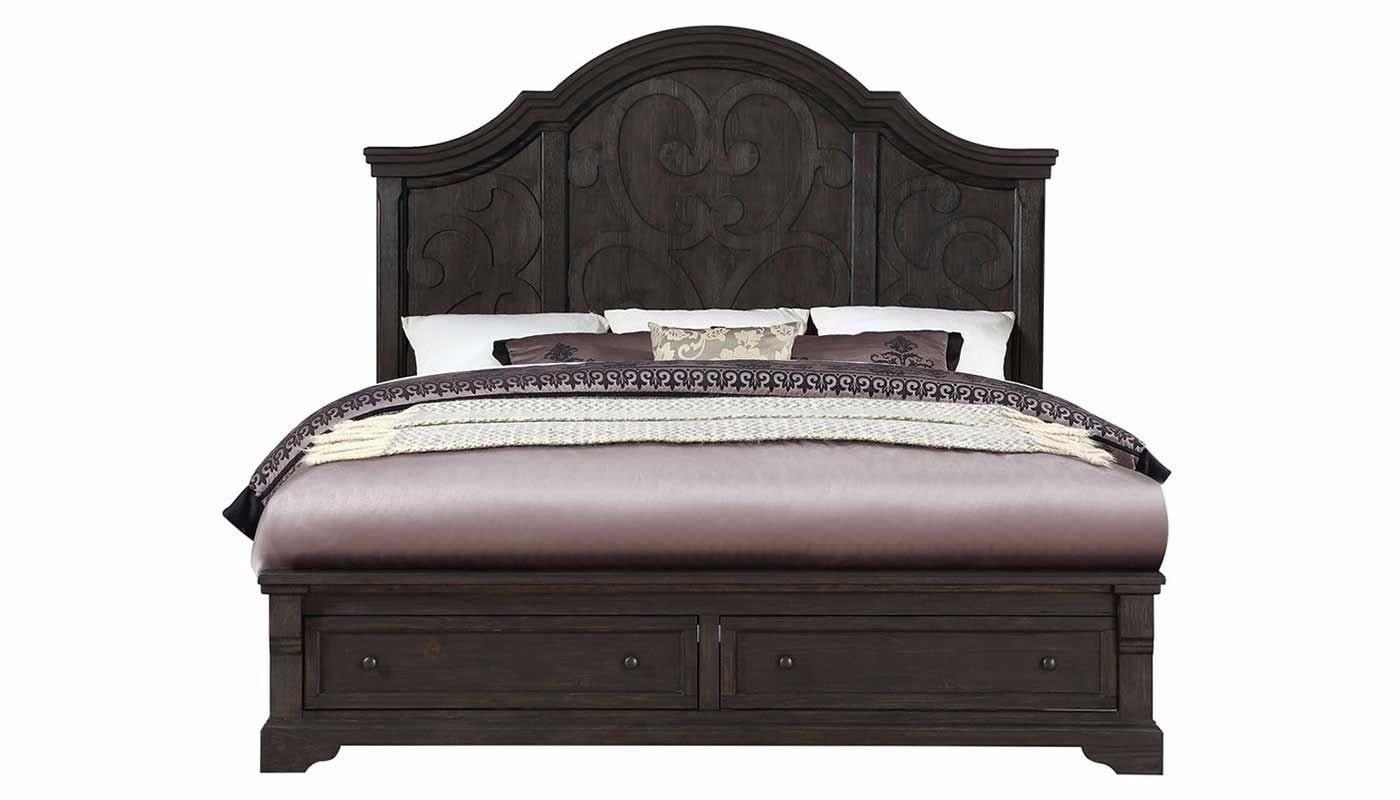bed: (324, 64, 1210, 770)
